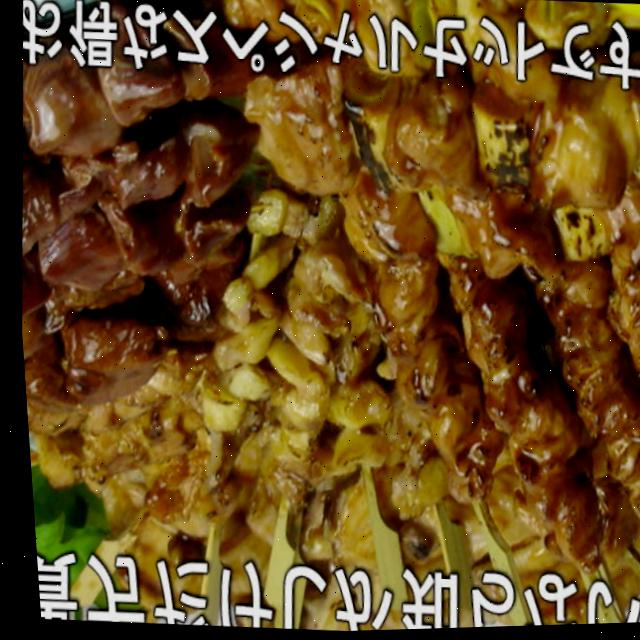烧串烤肉: (4, 63, 640, 583)
